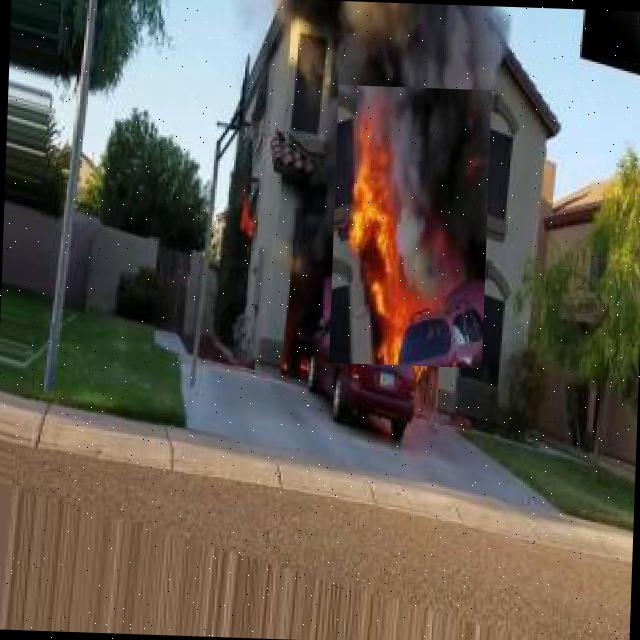fire: (328, 85, 492, 368)
